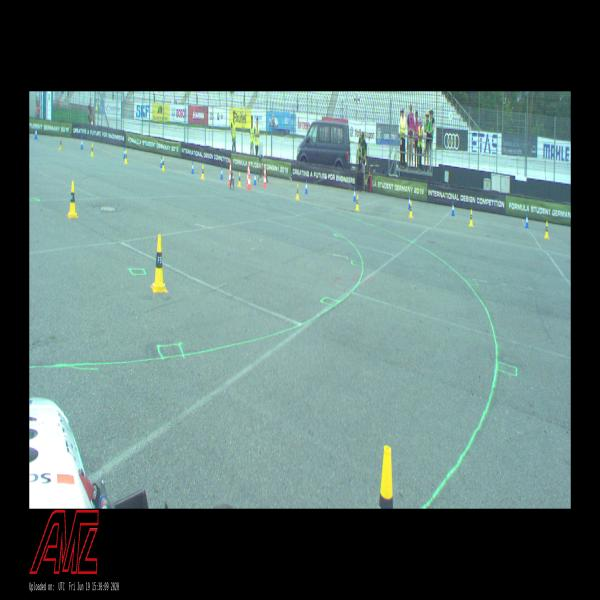blue_cone: (524, 213, 528, 228), (34, 127, 38, 139), (305, 180, 308, 194), (352, 188, 355, 201), (452, 201, 454, 216), (123, 148, 126, 158), (408, 195, 410, 209), (192, 161, 194, 174), (254, 172, 256, 185), (221, 167, 223, 179), (160, 156, 162, 167), (81, 138, 83, 149)
large_orange_cone: (247, 166, 251, 189), (263, 166, 267, 187), (228, 161, 231, 185), (247, 163, 249, 184)
yellow_cone: (379, 445, 393, 508), (152, 235, 167, 292), (67, 181, 78, 218), (544, 220, 549, 239), (469, 209, 473, 227), (200, 165, 205, 179), (409, 201, 413, 218), (355, 195, 359, 211), (162, 156, 166, 171), (124, 150, 128, 164), (90, 144, 94, 157), (296, 184, 299, 199), (238, 172, 241, 187), (59, 137, 62, 150)
